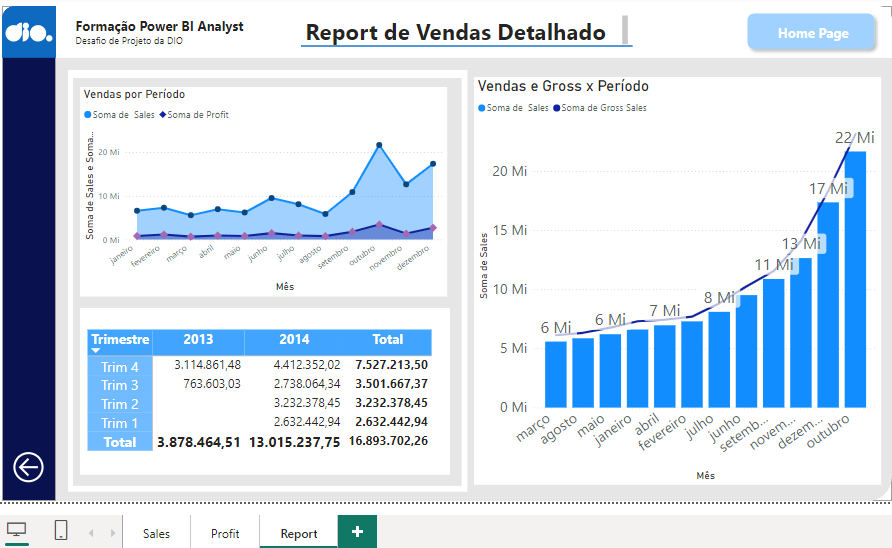

The dashboard page shown, as its layout file describes it:
{"tool":"powerbi","page":{"name":"Report","canvas":[1280,720],"ordinal":2},"visuals":[{"type":"group","id":"g1","title":"Layout","box":[10,12.8,1270,707],"z":0},{"type":"shape","box":[10,12.8,1270,707],"z":0,"group":"g1"},{"type":"shape","box":[437.3,51.5,473,37.1],"z":0,"group":"g3"},{"type":"shape","box":[103.6,103.6,569.9,601.9],"z":0,"group":"g2"},{"type":"shape","box":[10.1,13.4,77.2,706.3],"z":1000,"group":"g1"},{"type":"textbox","box":[438.7,21.3,470.2,52.2],"z":1000,"group":"g3"},{"type":"lineClusteredColumnComboChart","title":"Vendas e Gross x Período","fields":{"Category":["financials.Date.Variation.Hierarquia de datas.Mês"],"Y":["Sum(financials. Sales)"],"Y2":["Sum(financials.Gross Sales)"]},"box":[684.2,114.3,580.6,582.1],"z":1000},{"type":"shape","box":[110.3,114.6,554.7,582.1],"z":1000,"group":"g2"},{"type":"shape","box":[10.1,13.4,77.2,73.8],"z":2000,"group":"g1"},{"type":"group","id":"g2","title":"Detalhes venda x profit","box":[103.6,103.6,569.9,601.9],"z":2000},{"type":"shape","box":[120.1,443.5,528.4,238.2],"z":2000,"group":"g2"},{"type":"image","title":"logo_dio","box":[10.1,18.4,77.2,62.1],"z":3000,"group":"g1"},{"type":"textbox","title":"Título do report","box":[109.7,22.9,377.9,64],"z":3000},{"type":"areaChart","title":"Vendas por Período","fields":{"Category":["financials.Date.Variation.Hierarquia de datas.Trimestre","financials.Date.Variation.Hierarquia de datas.Mês"],"Y":["Sum(financials. Sales)","Sum(financials.Profit)"]},"box":[120.9,128.6,524.2,298.7],"z":3000,"group":"g2"},{"type":"shape","box":[87,12.8,1193.1,74.1],"z":4000,"group":"g1"},{"type":"group","id":"g3","title":"Sales report","box":[437.3,21.3,472.4,67],"z":4000},{"type":"pivotTable","fields":{"Columns":["financials.Date.Variation.Hierarquia de datas.Ano"],"Rows":["financials.Date.Variation.Hierarquia de datas.Trimestre"],"Values":["Sum(financials.Profit)"]},"box":[126,468.4,509.5,189.9],"z":4000,"group":"g2"},{"type":"actionButton","box":[20.6,622.4,55.6,96.9],"z":6000},{"type":"actionButton","title":"Home Page","box":[1064.7,14.6,199.6,69.2],"z":9000,"group":"g4"},{"type":"textbox","box":[1101,33.7,134.4,34.6],"z":9500,"group":"g4"},{"type":"group","id":"g4","title":"Botão home","box":[1064.7,14.6,199.6,69.2],"z":9501}]}

Visuals, with their boxes on the page's 1280x720 design canvas (x1, y1, x2, y2). These are canvas units, not pixel positions in the 892x548 screenshot, which may show the page scaled, cropped or inside an application window:
"Layout" group: pyautogui.locateOnScreen(10, 13, 1280, 720)
shape: pyautogui.locateOnScreen(10, 13, 1280, 720)
shape: pyautogui.locateOnScreen(437, 52, 910, 89)
shape: pyautogui.locateOnScreen(104, 104, 674, 706)
shape: pyautogui.locateOnScreen(10, 13, 87, 720)
textbox: pyautogui.locateOnScreen(439, 21, 909, 74)
"Vendas e Gross x Período" lineClusteredColumnComboChart: pyautogui.locateOnScreen(684, 114, 1265, 696)
shape: pyautogui.locateOnScreen(110, 115, 665, 697)
shape: pyautogui.locateOnScreen(10, 13, 87, 87)
"Detalhes venda x profit" group: pyautogui.locateOnScreen(104, 104, 674, 706)
shape: pyautogui.locateOnScreen(120, 444, 648, 682)
"logo_dio" image: pyautogui.locateOnScreen(10, 18, 87, 80)
"Título do report" textbox: pyautogui.locateOnScreen(110, 23, 488, 87)
"Vendas por Período" areaChart: pyautogui.locateOnScreen(121, 129, 645, 427)
shape: pyautogui.locateOnScreen(87, 13, 1280, 87)
"Sales report" group: pyautogui.locateOnScreen(437, 21, 910, 88)
pivotTable - financials.Date.Variation.Hierarquia de datas.Ano x financials.Date.Variation.Hierarquia de datas.Trimestre: pyautogui.locateOnScreen(126, 468, 636, 658)
actionButton: pyautogui.locateOnScreen(21, 622, 76, 719)
"Home Page" actionButton: pyautogui.locateOnScreen(1065, 15, 1264, 84)
textbox: pyautogui.locateOnScreen(1101, 34, 1235, 68)
"Botão home" group: pyautogui.locateOnScreen(1065, 15, 1264, 84)
